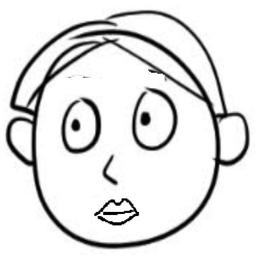cupid_mouth: (93, 193, 139, 229)
ear: (208, 104, 251, 169), (4, 114, 42, 171)
eye: (125, 86, 179, 155), (60, 94, 102, 155)
pointy_nose: (99, 154, 124, 186)
